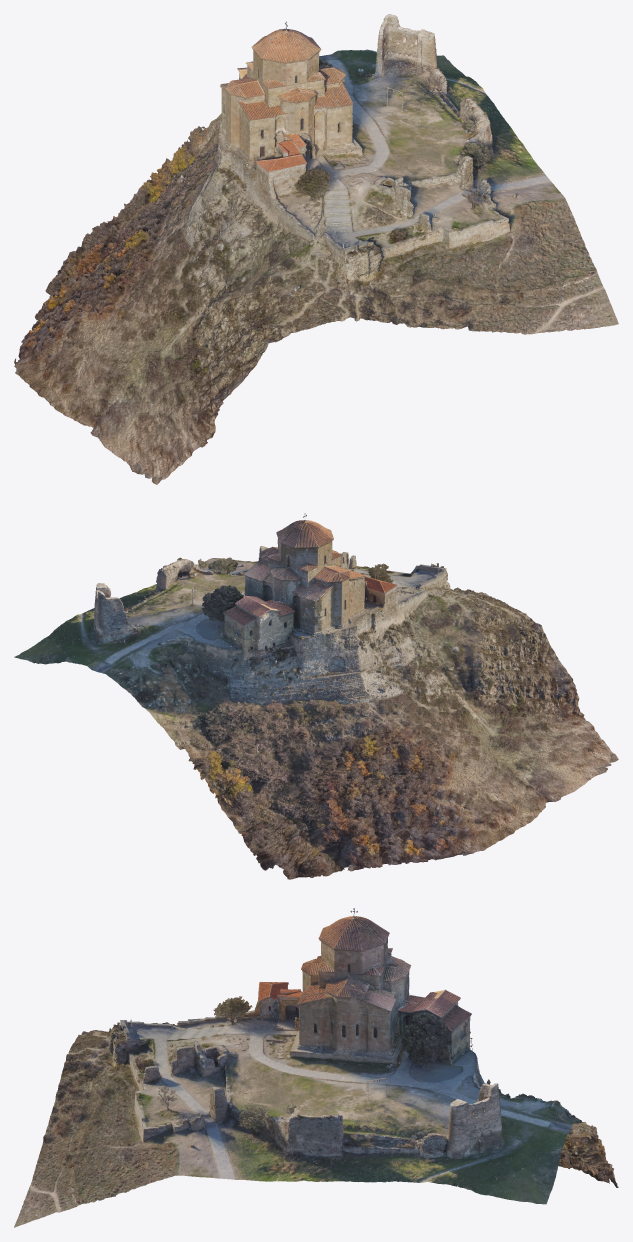
Rendered from sf-jvari-monastery-georgia-unesco-world-her-6d0b08.glb.
3 renders of one model, top to bottom at view 1: azimuth 30°, elevation 25°; view 2: azimuth 150°, elevation 25°; view 3: azimuth 270°, elevation 25°, orthographic. The views are drawn at different scales.
Parts seen in each view (by area): view 1: Jvari_Ground_0, Jvari_Jvari.002_0, Jvari_Jvari1.002_0, Jvari_Jvari5.002_0, Jvari_Jvari9.001_0, Jvari_Jvari3.002_0, Jvari_Jvari7.002_0, Jvari_Jvari6.002_0, Jvari_Jvari4.002_0, Jvari_Jvari2.002_0, Jvari_Jvari8.002_0; view 2: Jvari_Ground_0, Jvari_Jvari8.002_0, Jvari_Jvari2.002_0, Jvari_Jvari7.002_0, Jvari_Jvari9.001_0, Jvari_Jvari5.002_0, Jvari_Jvari1.002_0, Jvari_Jvari4.002_0, Jvari_Jvari3.002_0, Jvari_Jvari6.002_0, Jvari_Jvari.002_0; view 3: Jvari_Ground_0, Jvari_Jvari3.002_0, Jvari_Jvari4.002_0, Jvari_Jvari1.002_0, Jvari_Jvari.002_0, Jvari_Jvari5.002_0, Jvari_Jvari7.002_0, Jvari_Jvari8.002_0, Jvari_Jvari6.002_0, Jvari_Jvari9.001_0, Jvari_Jvari2.002_0.
Part boxes in pixels (bbox=[...]): Jvari_Ground_0: bbox=[14, 49, 618, 484]; Jvari_Jvari.002_0: bbox=[204, 27, 546, 282]; Jvari_Jvari1.002_0: bbox=[210, 29, 558, 257]; Jvari_Jvari5.002_0: bbox=[191, 23, 532, 247]; Jvari_Jvari9.001_0: bbox=[185, 17, 532, 270]; Jvari_Jvari3.002_0: bbox=[192, 22, 543, 279]; Jvari_Jvari7.002_0: bbox=[198, 14, 565, 263]; Jvari_Jvari6.002_0: bbox=[183, 18, 556, 254]; Jvari_Jvari4.002_0: bbox=[182, 43, 568, 267]; Jvari_Jvari2.002_0: bbox=[191, 24, 554, 274]; Jvari_Jvari8.002_0: bbox=[220, 25, 521, 283]; Jvari_Ground_0: bbox=[14, 558, 618, 879]; Jvari_Jvari8.002_0: bbox=[59, 515, 446, 683]; Jvari_Jvari2.002_0: bbox=[77, 516, 429, 703]; Jvari_Jvari7.002_0: bbox=[62, 516, 447, 696]; Jvari_Jvari9.001_0: bbox=[92, 516, 425, 706]; Jvari_Jvari5.002_0: bbox=[87, 514, 435, 704]; Jvari_Jvari1.002_0: bbox=[89, 520, 446, 705]; Jvari_Jvari4.002_0: bbox=[72, 558, 441, 704]; Jvari_Jvari3.002_0: bbox=[70, 515, 433, 700]; Jvari_Jvari6.002_0: bbox=[62, 517, 417, 701]; Jvari_Jvari.002_0: bbox=[57, 513, 450, 705]; Jvari_Ground_0: bbox=[14, 1022, 618, 1227]; Jvari_Jvari3.002_0: bbox=[113, 910, 541, 1179]; Jvari_Jvari4.002_0: bbox=[109, 985, 562, 1182]; Jvari_Jvari1.002_0: bbox=[117, 916, 556, 1182]; Jvari_Jvari.002_0: bbox=[109, 912, 552, 1188]; Jvari_Jvari5.002_0: bbox=[129, 909, 570, 1181]; Jvari_Jvari7.002_0: bbox=[111, 931, 573, 1184]; Jvari_Jvari8.002_0: bbox=[108, 911, 567, 1186]; Jvari_Jvari6.002_0: bbox=[127, 911, 552, 1180]; Jvari_Jvari9.001_0: bbox=[116, 908, 517, 1177]; Jvari_Jvari2.002_0: bbox=[112, 911, 530, 1170].
Size of the model in its own units: 87.88 by 52.54 by 87.74.
11 materials, 11 textured.
